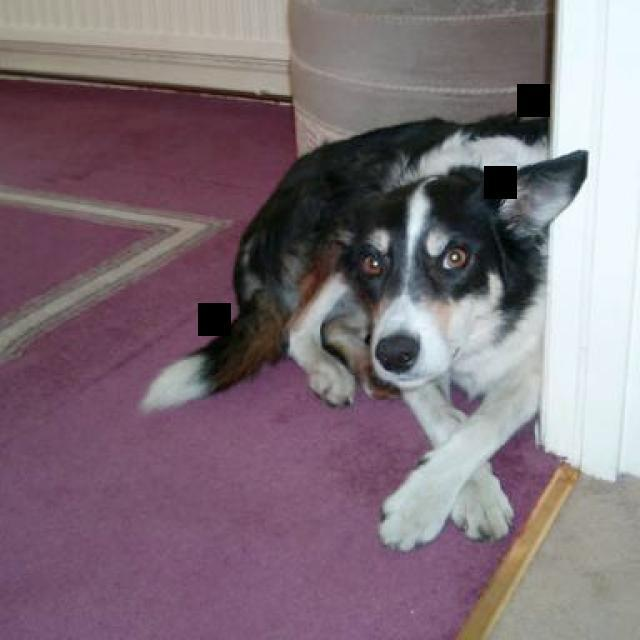adult_dog: (137, 107, 597, 556)
